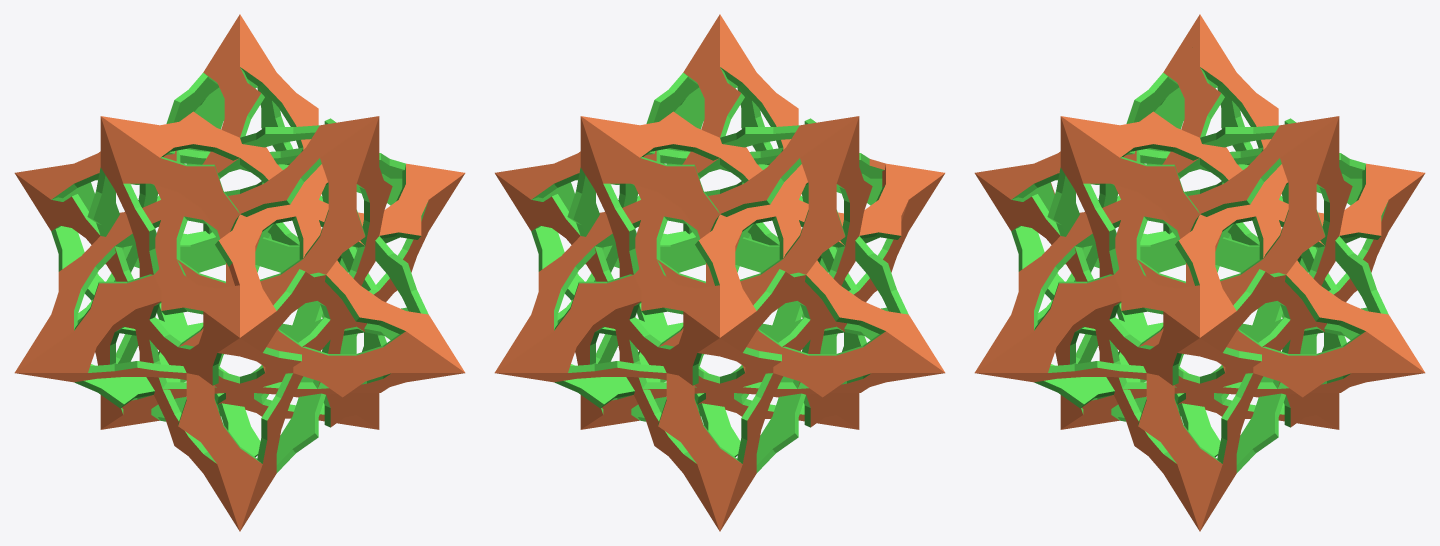
Rendered from StarDodecahedronPolyknot14.glb.
3 renders of one model, left to right at view 1: azimuth 30°, elevation 25°; view 2: azimuth 150°, elevation 25°; view 3: azimuth 270°, elevation 25°, orthographic.
Visible parts, largest first — view 1: ESCHER_4.0_STELLATED_DODECAHEDRON_7Penta_Prism; view 2: ESCHER_4.0_STELLATED_DODECAHEDRON_7Penta_Prism; view 3: ESCHER_4.0_STELLATED_DODECAHEDRON_7Penta_Prism.
Part boxes in pixels (<box>): ESCHER_4.0_STELLATED_DODECAHEDRON_7Penta_Prism: <box>14,14,465,531</box>; ESCHER_4.0_STELLATED_DODECAHEDRON_7Penta_Prism: <box>494,14,945,531</box>; ESCHER_4.0_STELLATED_DODECAHEDRON_7Penta_Prism: <box>974,14,1425,531</box>.
Size of the model in its own units: 125 by 101 by 108.
